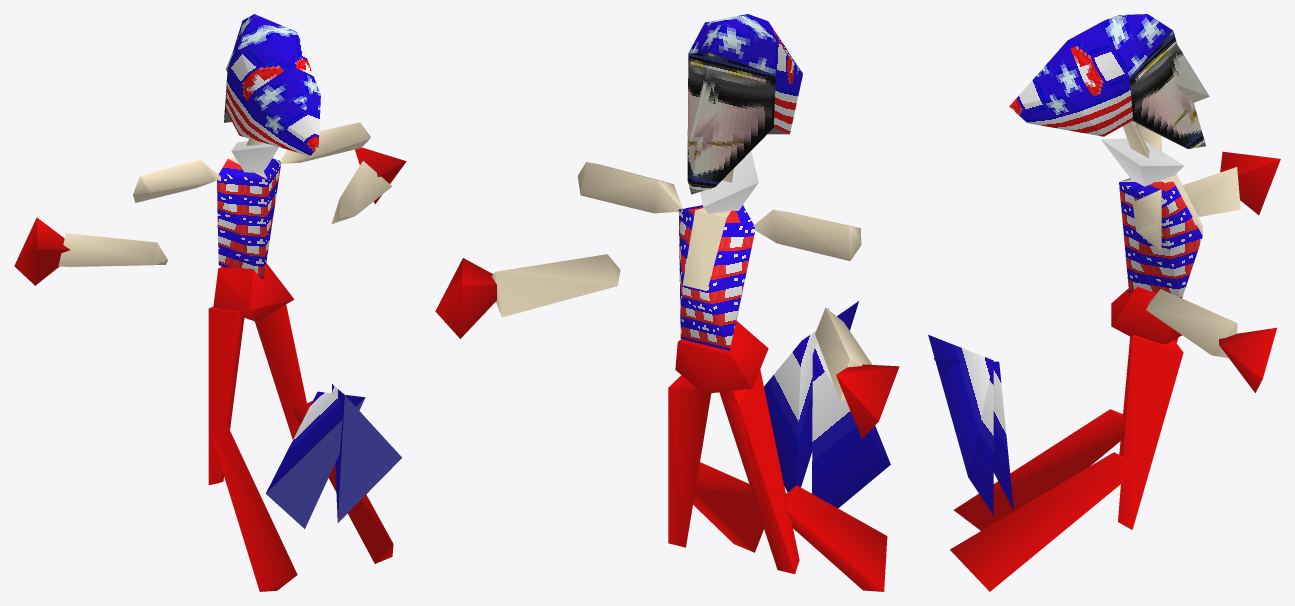
Rendered from uvmd-0317.glb.
The picture shows the model from 3 angles, left to right: view 1: azimuth 30°, elevation 25°; view 2: azimuth 150°, elevation 25°; view 3: azimuth 270°, elevation 25°; orthographic projection. The views are drawn at different scales.
Parts seen in each view (by area): view 1: part-01, part-00, part-09, part-08, part-03, part-12, part-07, part-10, part-06, part-05, part-02, part-11 (+1 smaller); view 2: part-01, part-00, part-05, part-09, part-07, part-08, part-12, part-10, part-03, part-06, part-11, part-04 (+1 smaller); view 3: part-01, part-00, part-11, part-10, part-08, part-12, part-05, part-03, part-06, part-09, part-04.
Boxes of the visible parts, x1=… form: part-01: x1=224, y1=14, x2=320, y2=155; part-00: x1=217, y1=141, x2=280, y2=279; part-09: x1=265, y1=391, x2=365, y2=528; part-08: x1=210, y1=425, x2=297, y2=591; part-03: x1=14, y1=217, x2=167, y2=285; part-12: x1=332, y1=384, x2=401, y2=522; part-07: x1=208, y1=307, x2=244, y2=484; part-10: x1=255, y1=304, x2=306, y2=439; part-06: x1=213, y1=263, x2=294, y2=321; part-05: x1=331, y1=147, x2=406, y2=224; part-02: x1=133, y1=159, x2=220, y2=202; part-11: x1=293, y1=400, x2=393, y2=563; part-01: x1=687, y1=14, x2=802, y2=194; part-00: x1=678, y1=151, x2=758, y2=350; part-05: x1=435, y1=254, x2=620, y2=338; part-09: x1=812, y1=308, x2=890, y2=508; part-07: x1=719, y1=369, x2=799, y2=574; part-08: x1=782, y1=485, x2=887, y2=591; part-12: x1=764, y1=301, x2=858, y2=492; part-10: x1=668, y1=375, x2=711, y2=547; part-03: x1=815, y1=307, x2=899, y2=438; part-06: x1=675, y1=320, x2=768, y2=393; part-11: x1=693, y1=462, x2=763, y2=552; part-04: x1=577, y1=162, x2=682, y2=213; part-01: x1=1009, y1=14, x2=1209, y2=157; part-00: x1=1101, y1=138, x2=1202, y2=298; part-11: x1=950, y1=452, x2=1135, y2=591; part-10: x1=1118, y1=335, x2=1183, y2=529; part-08: x1=953, y1=409, x2=1125, y2=530; part-12: x1=928, y1=335, x2=993, y2=514; part-05: x1=1146, y1=289, x2=1276, y2=392; part-03: x1=1182, y1=151, x2=1280, y2=216; part-06: x1=1111, y1=287, x2=1181, y2=344; part-09: x1=934, y1=358, x2=1013, y2=509; part-04: x1=1132, y1=189, x2=1161, y2=252.
Size of the model in its own units: 127 by 167 by 96.71.
Materials: 18 (18 with a texture image).
